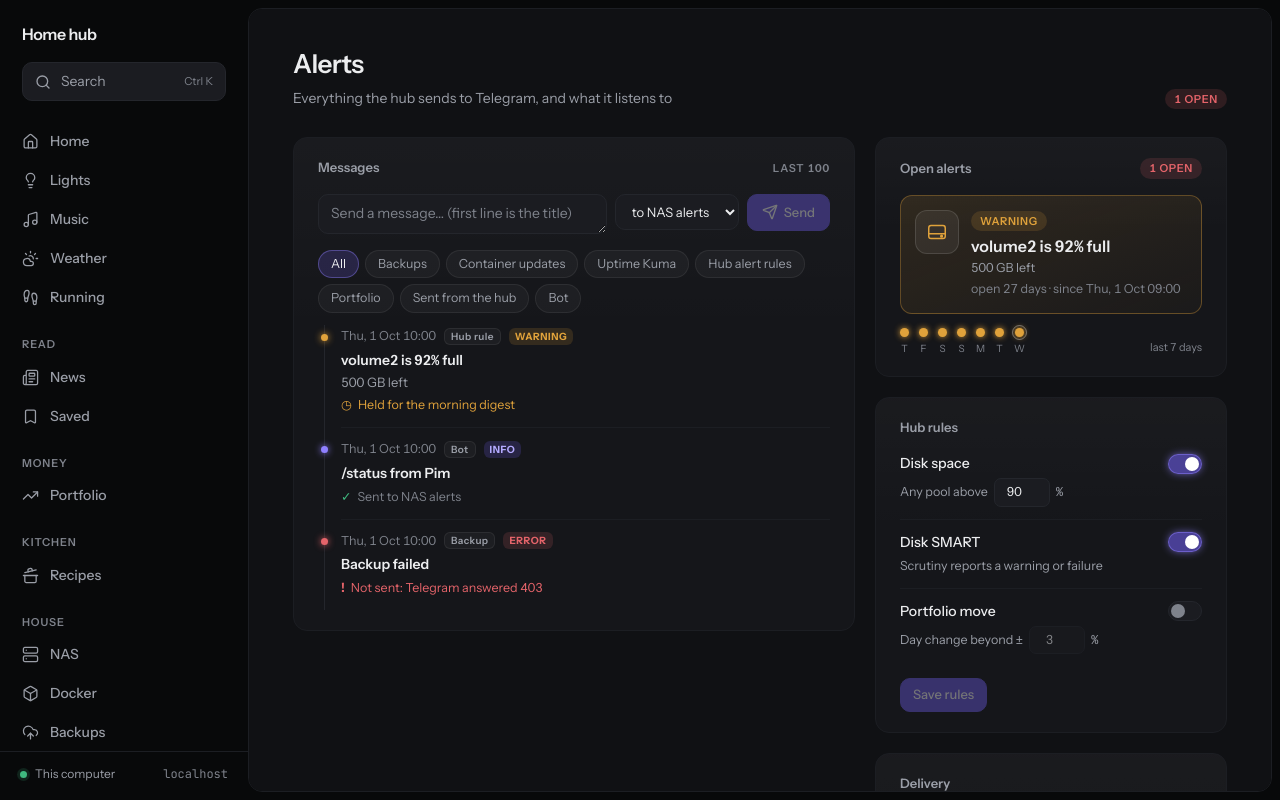
AlertsPage › edits and saves rules
The width and height of the screenshot is (1280, 800).
Expected: the button "Save rules" is disabled, [900,678,987,712]
Click the switch named "Portfolio move on" at (1185, 611), box [1168,601,1202,621]
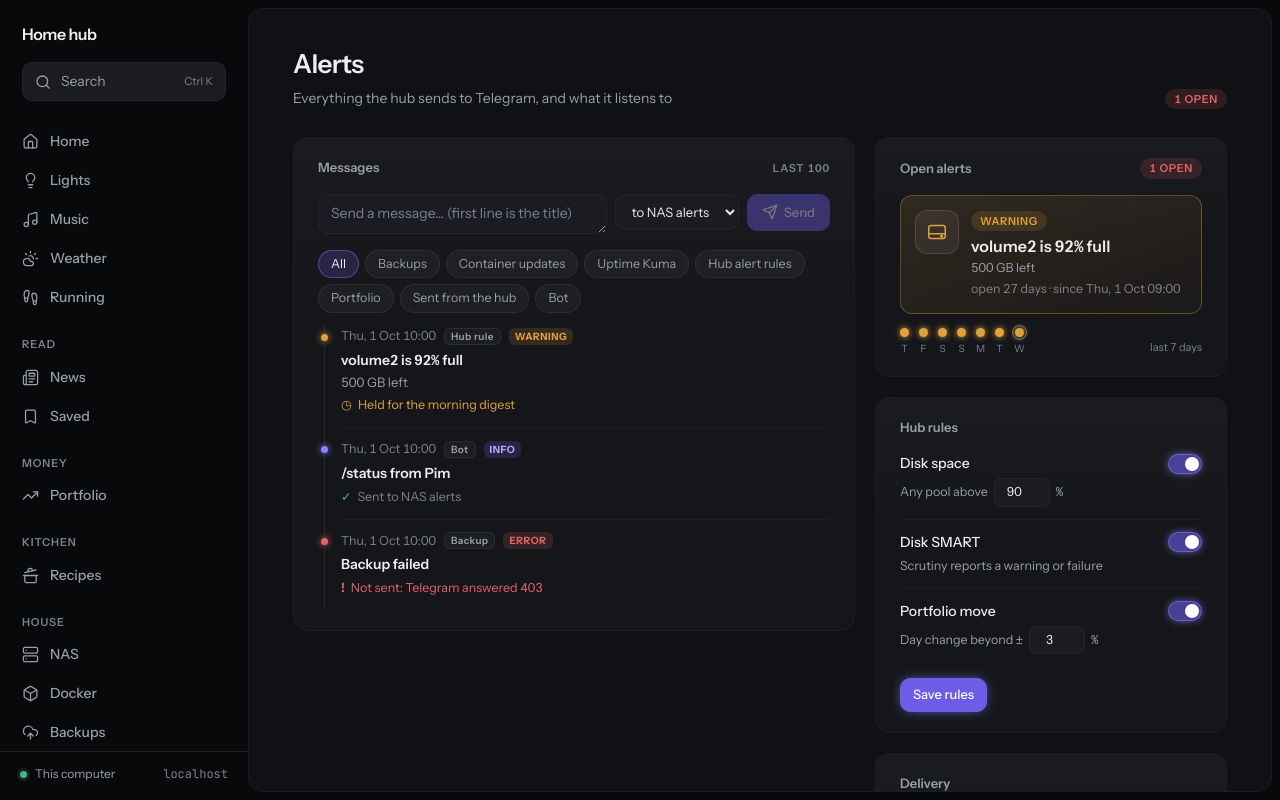
Replace the text in the number field labelled "Any pool above %" with "85" at (1022, 492), box [994,478,1050,507]
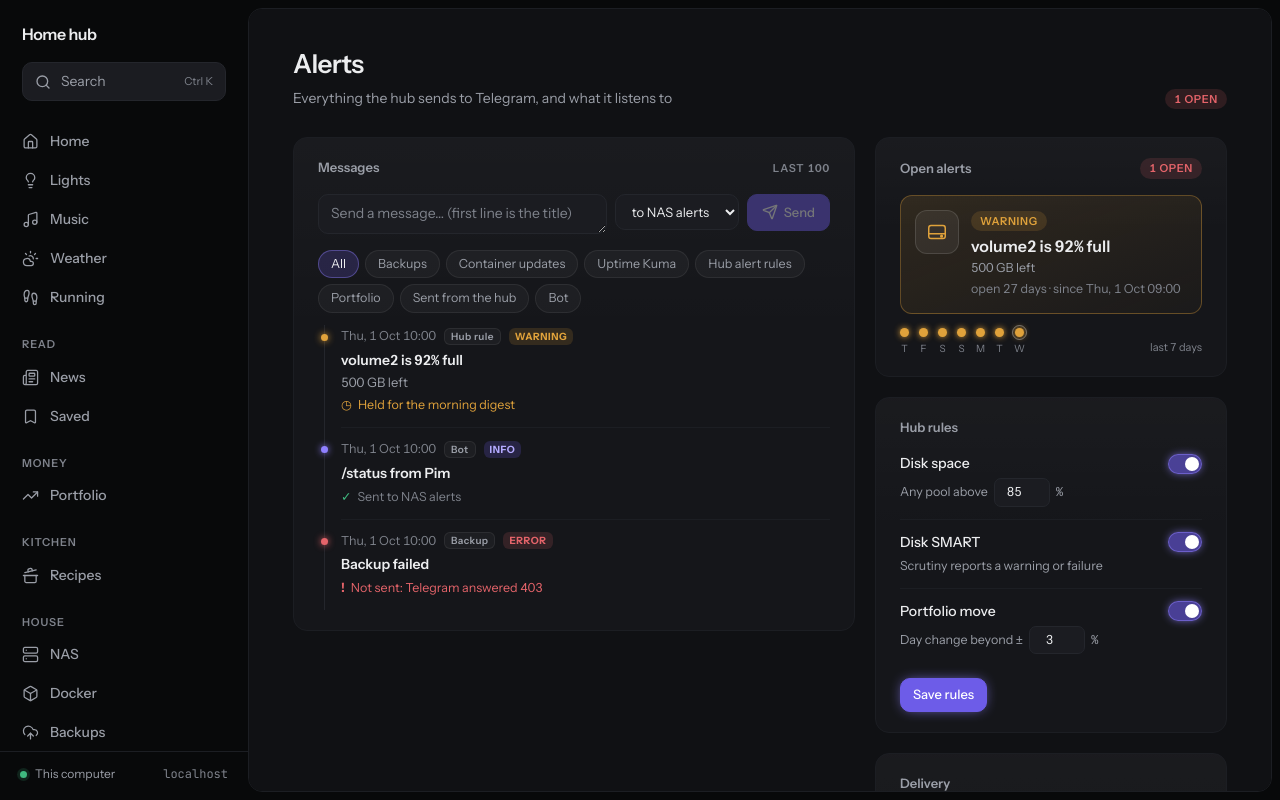
Click the button "Save rules" at (944, 695), box [900,678,987,712]
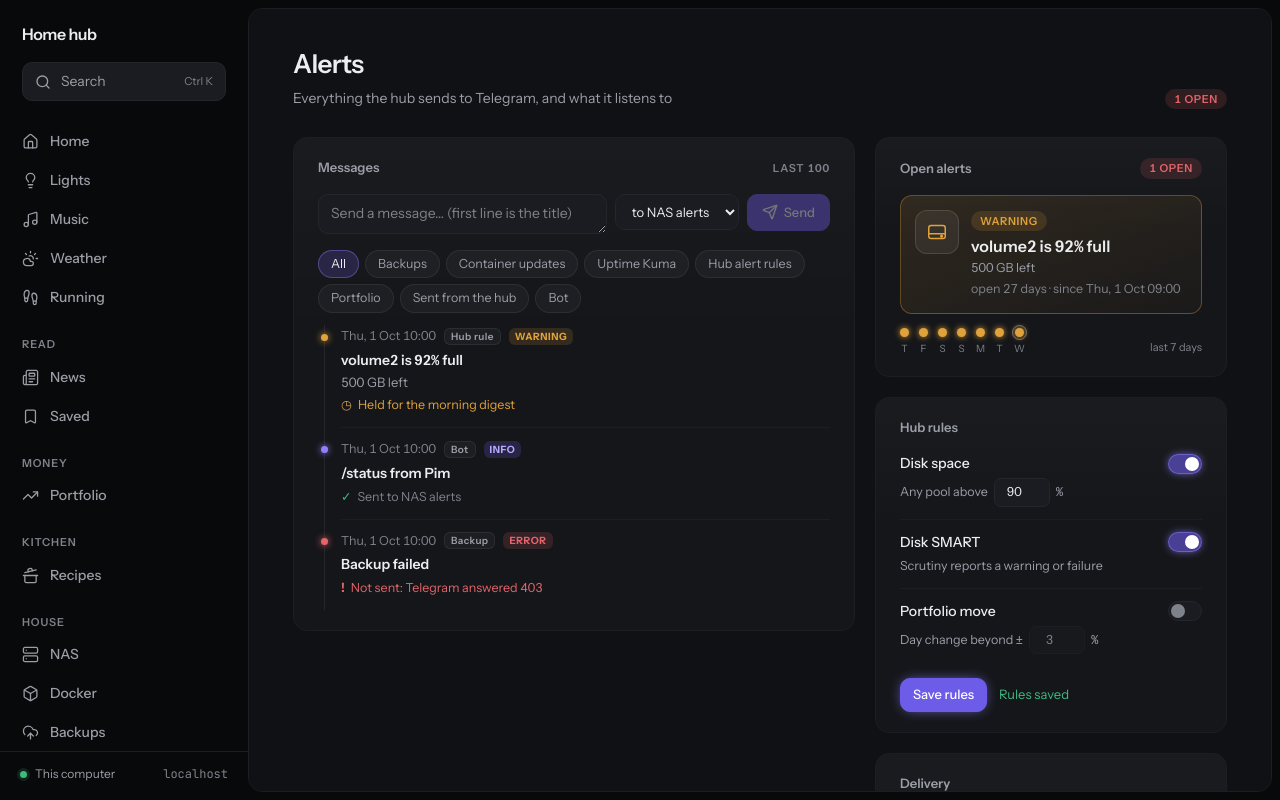
Expected: the text "Rules saved" is shown, [999,685,1069,705]
